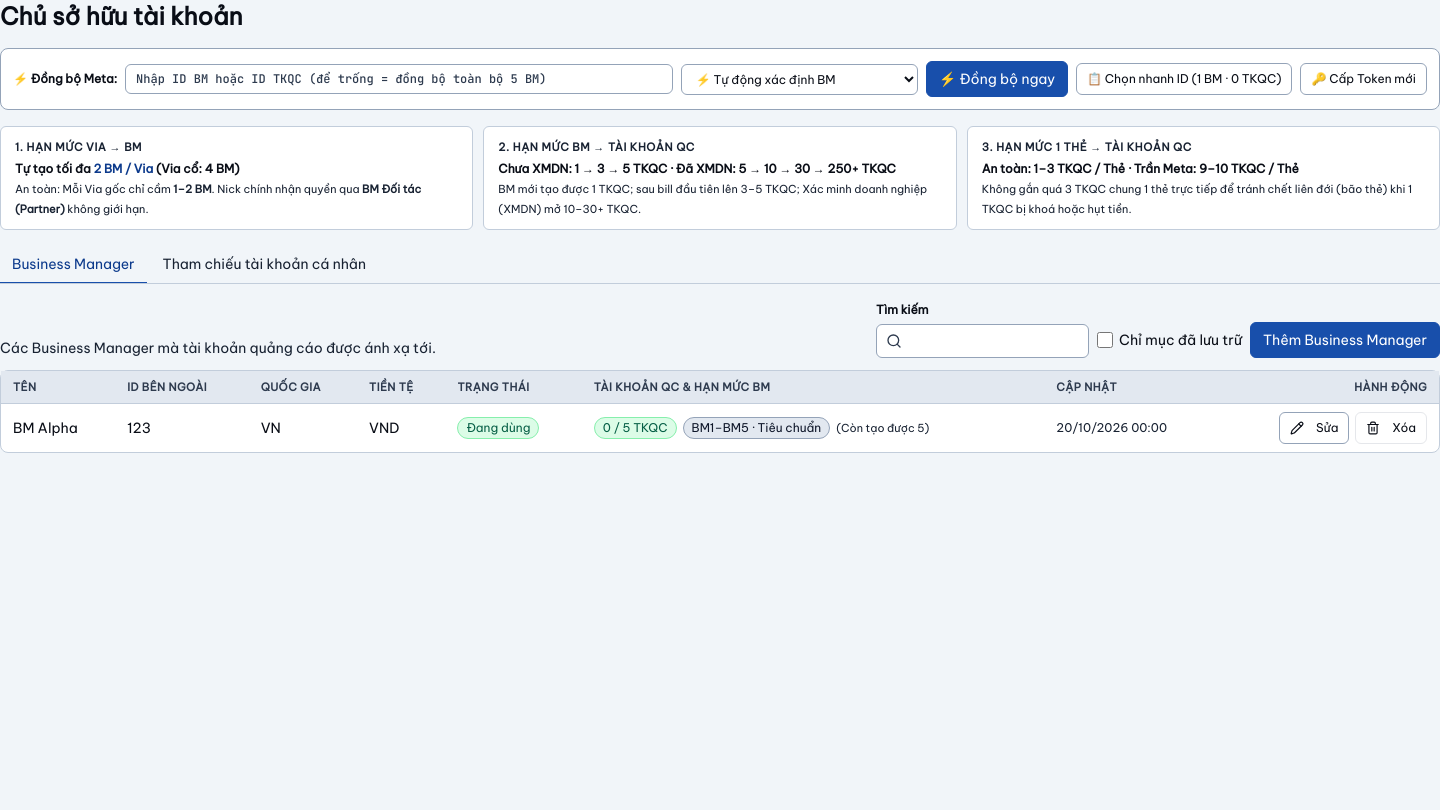
Test: Ownership references (BusinessManagers) › says so when the read-back does not show the change
This screenshot has width=1440, height=810.
Click the button with aria-label "Lưu trữ": click(1391, 428) top-left (1355, 412), bottom-right (1427, 444)
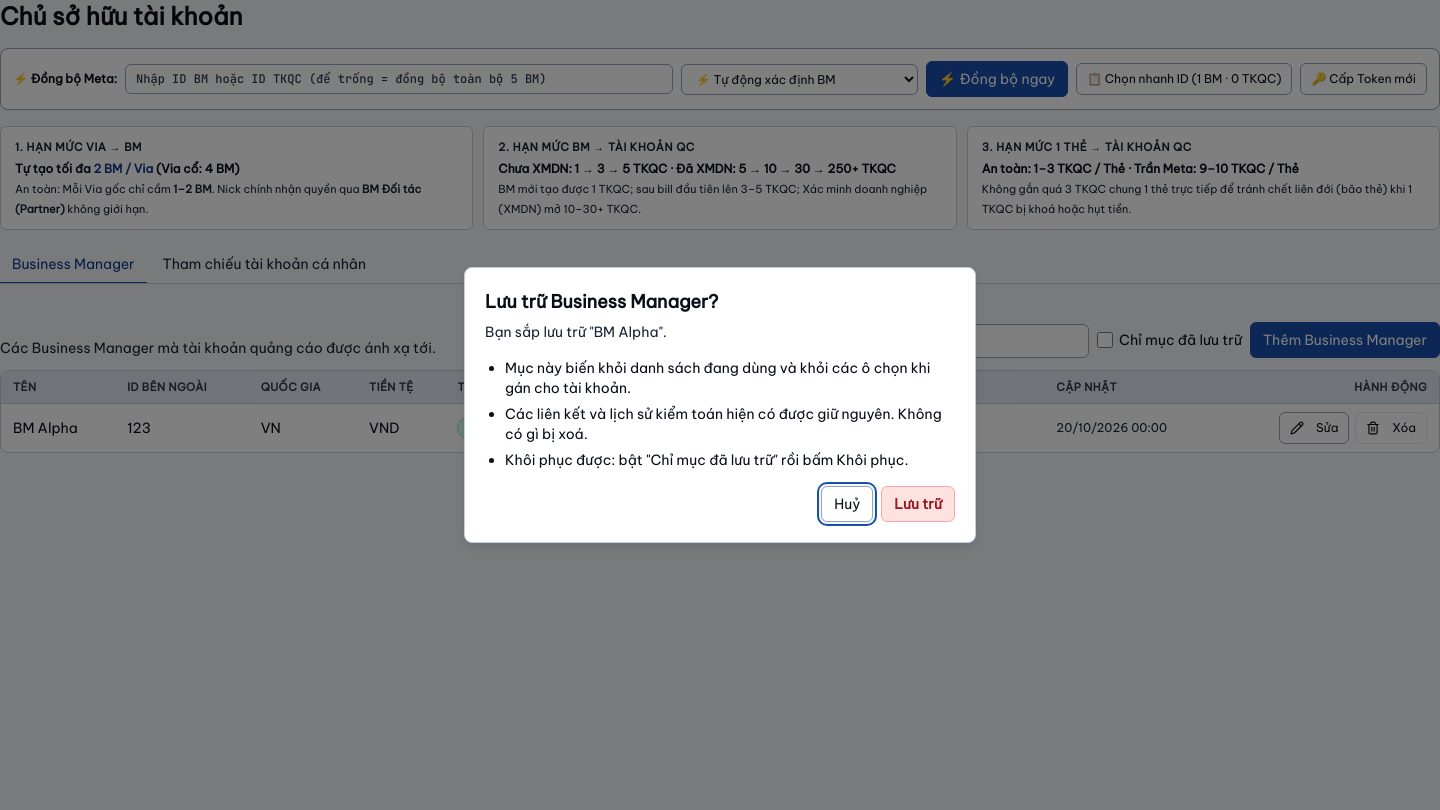
Click the button "Lưu trữ": click(918, 504) top-left (881, 486), bottom-right (955, 522)
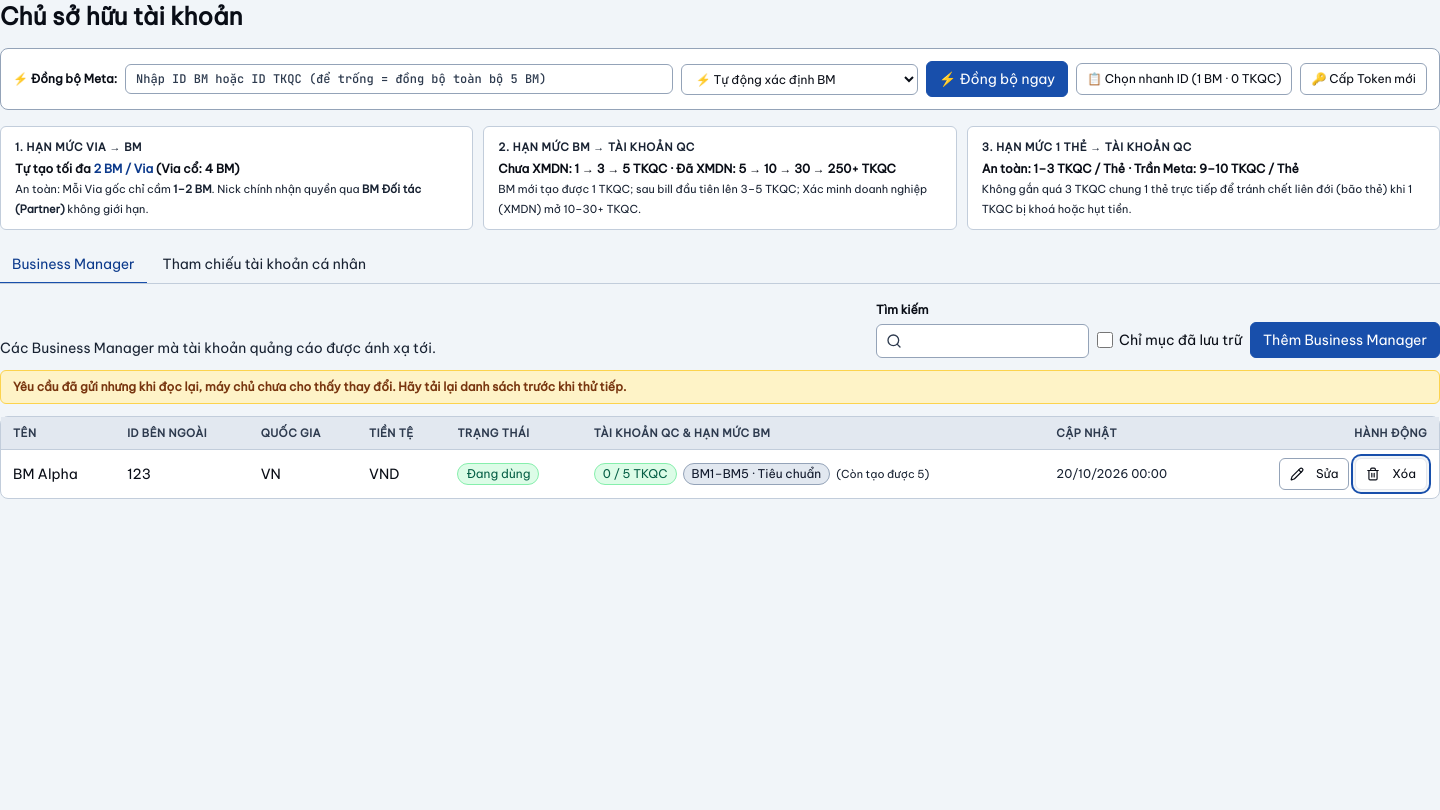
Expected: the text "khi đọc lại, máy chủ chưa cho thấy thay đổi" is shown, top-left (13, 379), bottom-right (626, 394)
